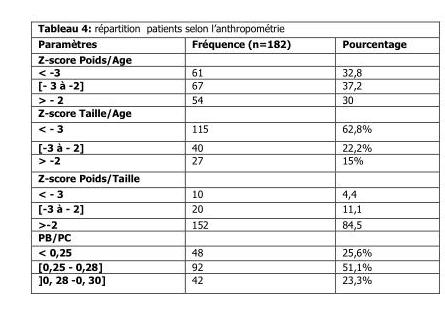table: (37, 36, 405, 285)
table column: (164, 36, 315, 285), (37, 36, 164, 285), (315, 36, 405, 285)
table column header: (37, 36, 405, 50)
table projected row header: (37, 168, 405, 185), (37, 50, 405, 65), (37, 105, 405, 119), (37, 230, 405, 243)
table row: (37, 119, 405, 137), (37, 168, 405, 185), (37, 137, 405, 153), (37, 50, 405, 65), (37, 153, 405, 168), (37, 185, 405, 200), (37, 200, 405, 215), (37, 215, 405, 230), (37, 243, 405, 258), (37, 36, 405, 50), (37, 77, 405, 91), (37, 91, 405, 105), (37, 105, 405, 119), (37, 258, 405, 272), (37, 230, 405, 243), (37, 272, 405, 285), (37, 65, 405, 77)
